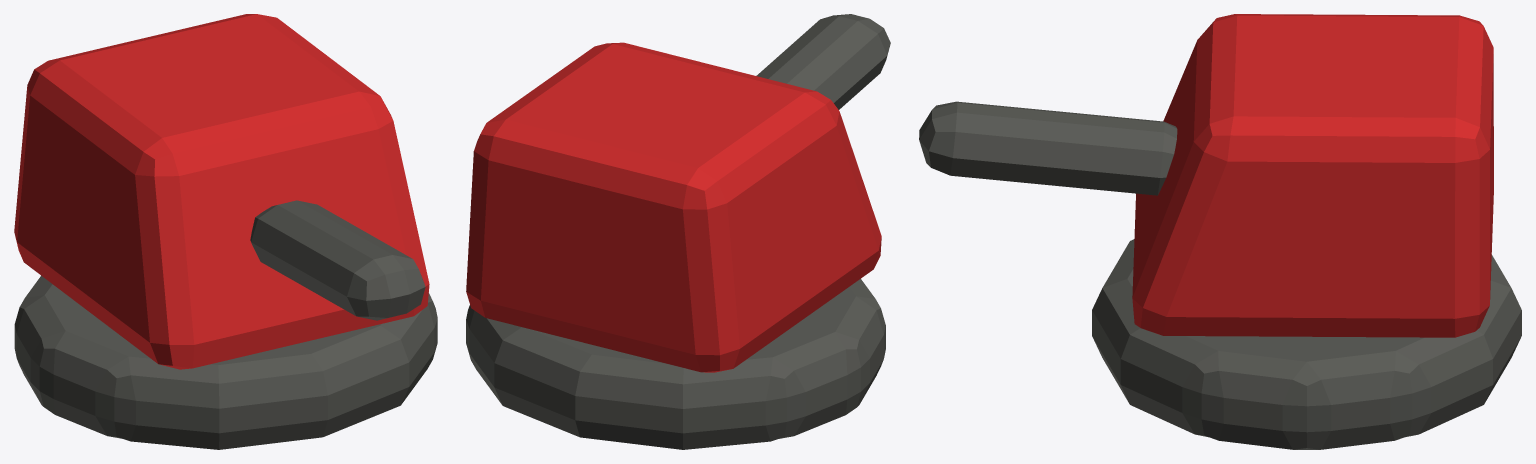
The model's file is Weapon2.fbx.
3 renders of one model, left to right at view 1: azimuth 30°, elevation 25°; view 2: azimuth 150°, elevation 25°; view 3: azimuth 270°, elevation 25°, orthographic. The views are drawn at different scales.
Parts seen in each view (by area): view 1: Weapon2; view 2: Weapon2; view 3: Weapon2.
Part boxes in pixels (bbox=[...]): Weapon2: bbox=[14, 14, 437, 449]; Weapon2: bbox=[466, 14, 890, 449]; Weapon2: bbox=[919, 14, 1521, 449].
Bounding box in the file's own units: 48.74 × 35.58 × 64.48.
